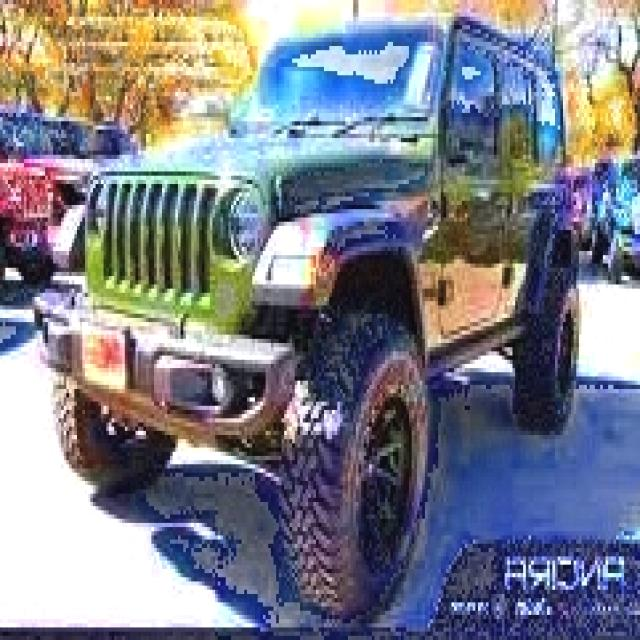green: (48, 13, 579, 619)
